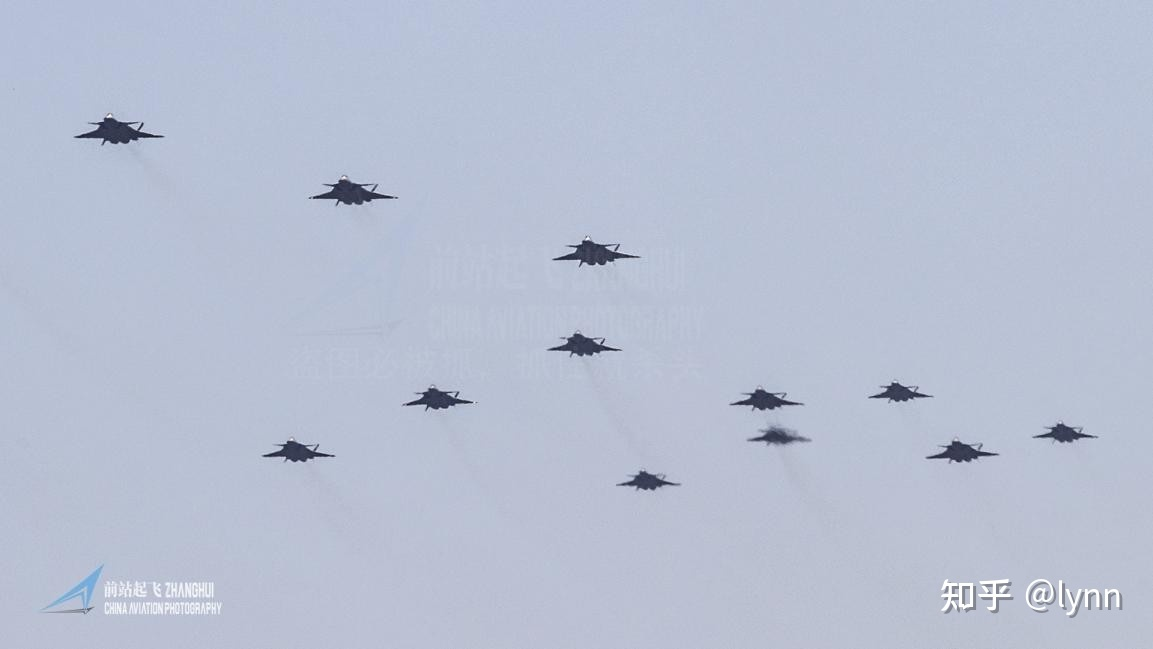J20: (73, 112, 166, 148), (551, 234, 643, 269), (307, 174, 399, 208), (546, 329, 624, 359), (401, 383, 480, 412), (925, 435, 1001, 465), (261, 435, 337, 465), (728, 384, 806, 413), (1031, 419, 1100, 446), (614, 466, 683, 493), (867, 378, 935, 405), (745, 423, 813, 448)
